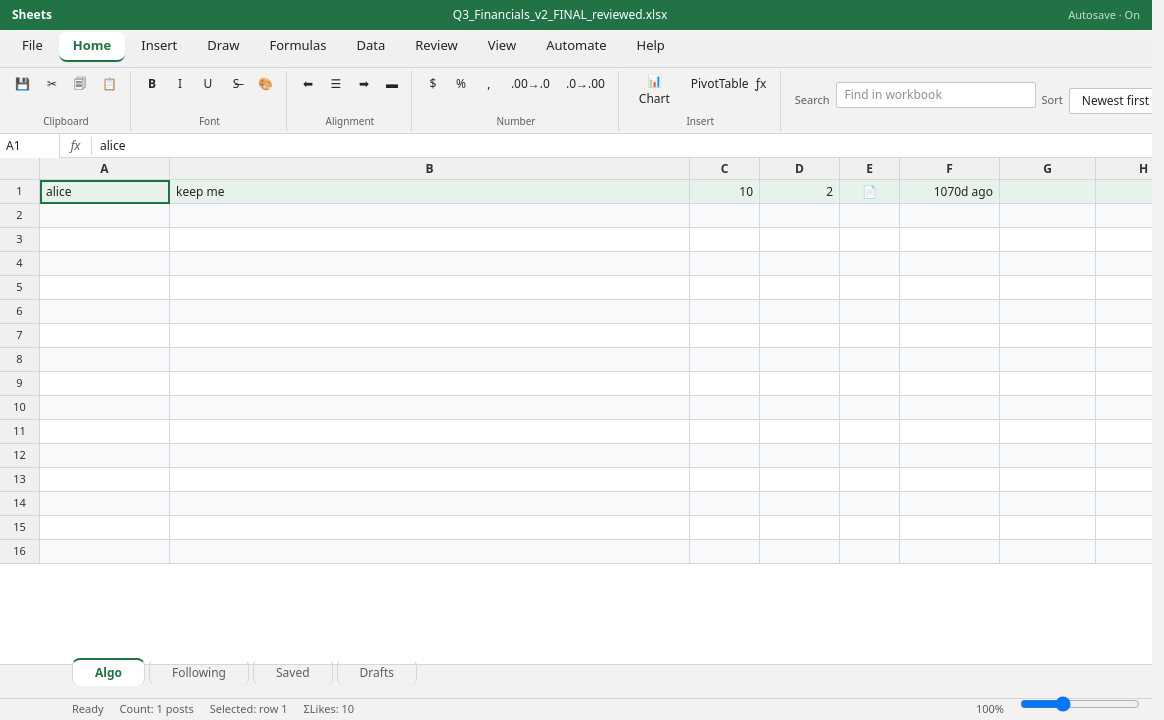
Test case: LedgerPage › Escape cancels an edit without saving
Double-click the text with test id "ledger-cell-0-B" at (430, 192), box left=170, top=180, right=690, bottom=204
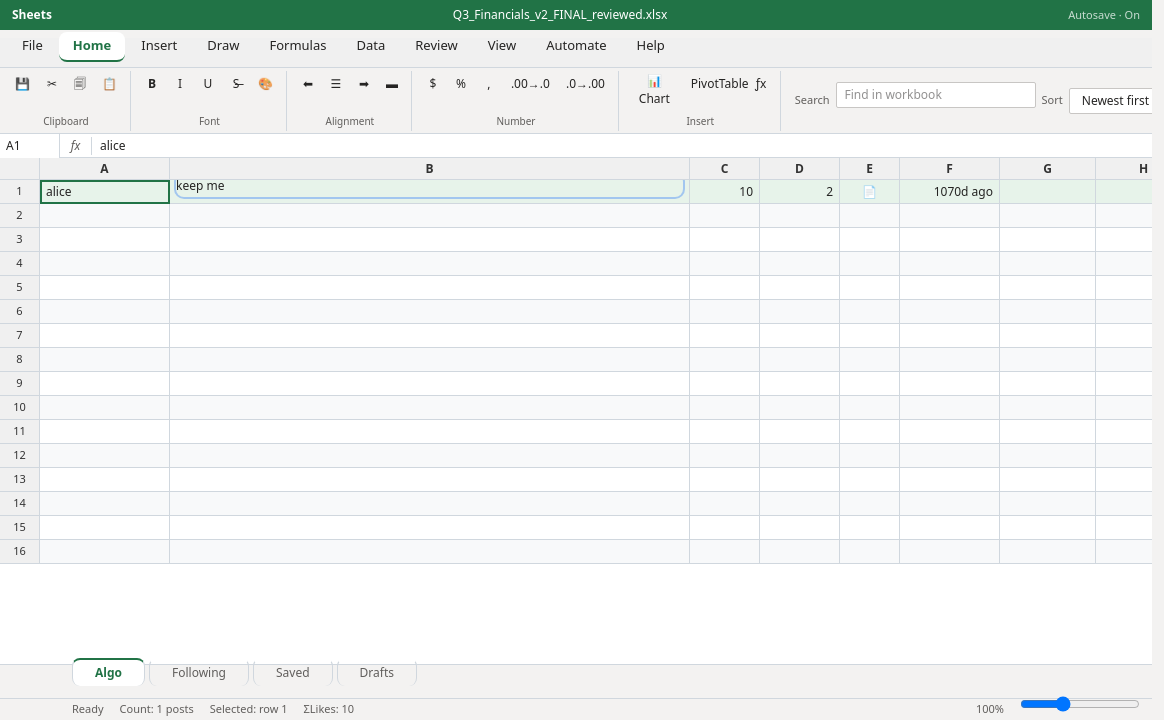
Replace the text in the field showing "keep me" with "not saved" at (430, 186), box left=176, top=174, right=683, bottom=197
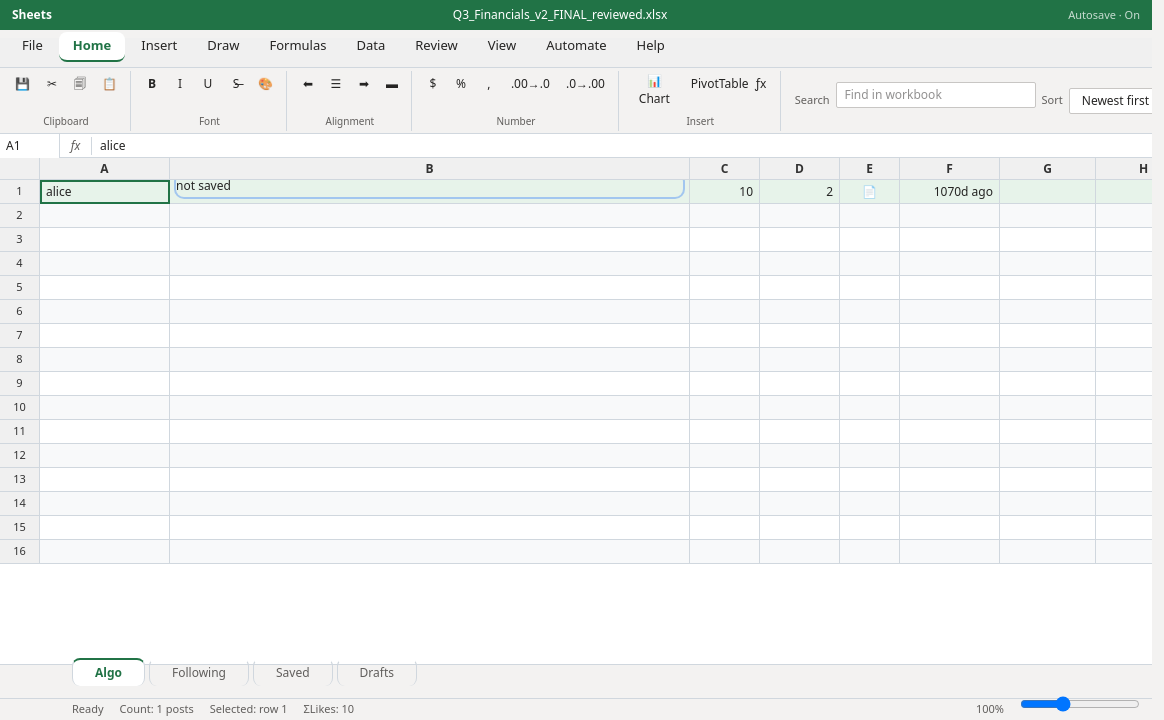
Press Escape in the field showing "keep me", box left=176, top=174, right=683, bottom=197
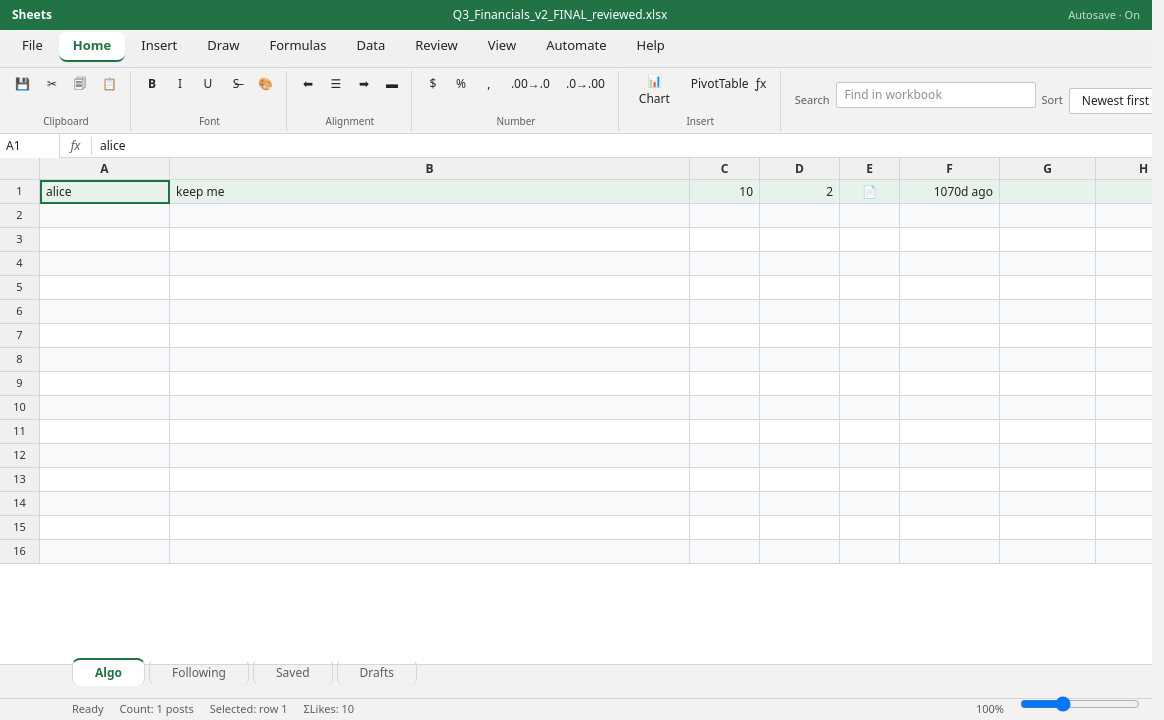
Result: the text with test id "ledger-cell-0-B" reads "keep me" at left=176, top=182, right=224, bottom=200
